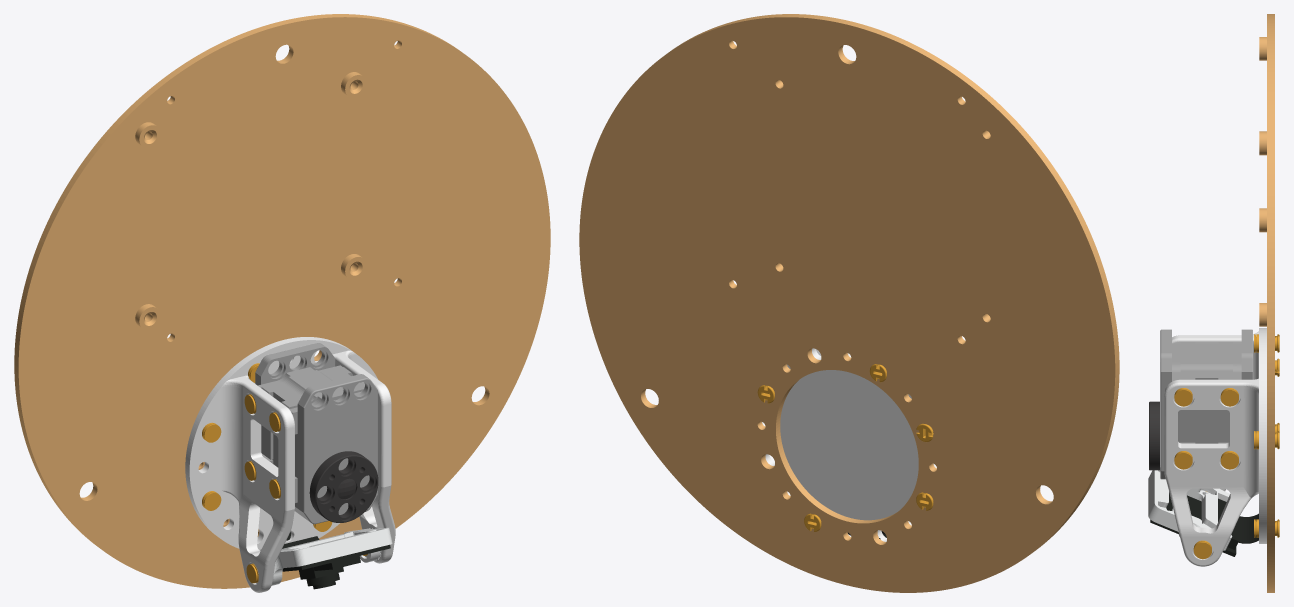
3 renders of one model, left to right at view 1: azimuth 30°, elevation 25°; view 2: azimuth 150°, elevation 25°; view 3: azimuth 270°, elevation 25°, orthographic. The views are drawn at different scales.
Visible parts, largest first — view 1: disk_support, base, body, horn, support_camera, PI_CAMERA; view 2: disk_support, base; view 3: base, body, disk_support, support_camera, insert (×5), PI_CAMERA, horn.
Boxes of the visible parts, x1=… form: disk_support: x1=14, y1=14, x2=550, y2=588; base: x1=185, y1=337, x2=395, y2=592; body: x1=255, y1=343, x2=377, y2=524; horn: x1=309, y1=451, x2=378, y2=522; support_camera: x1=271, y1=527, x2=392, y2=585; PI_CAMERA: x1=260, y1=532, x2=390, y2=589; disk_support: x1=579, y1=14, x2=1119, y2=592; base: x1=762, y1=348, x2=936, y2=541; base: x1=1164, y1=328, x2=1266, y2=566; body: x1=1160, y1=329, x2=1252, y2=479; disk_support: x1=1259, y1=14, x2=1274, y2=592; support_camera: x1=1148, y1=465, x2=1232, y2=550; insert (×5): x1=1174, y1=389, x2=1238, y2=559; PI_CAMERA: x1=1150, y1=492, x2=1258, y2=556; horn: x1=1149, y1=401, x2=1159, y2=470.
Bounding box in the file's own units: 0.15 × 0.15 × 0.034.
